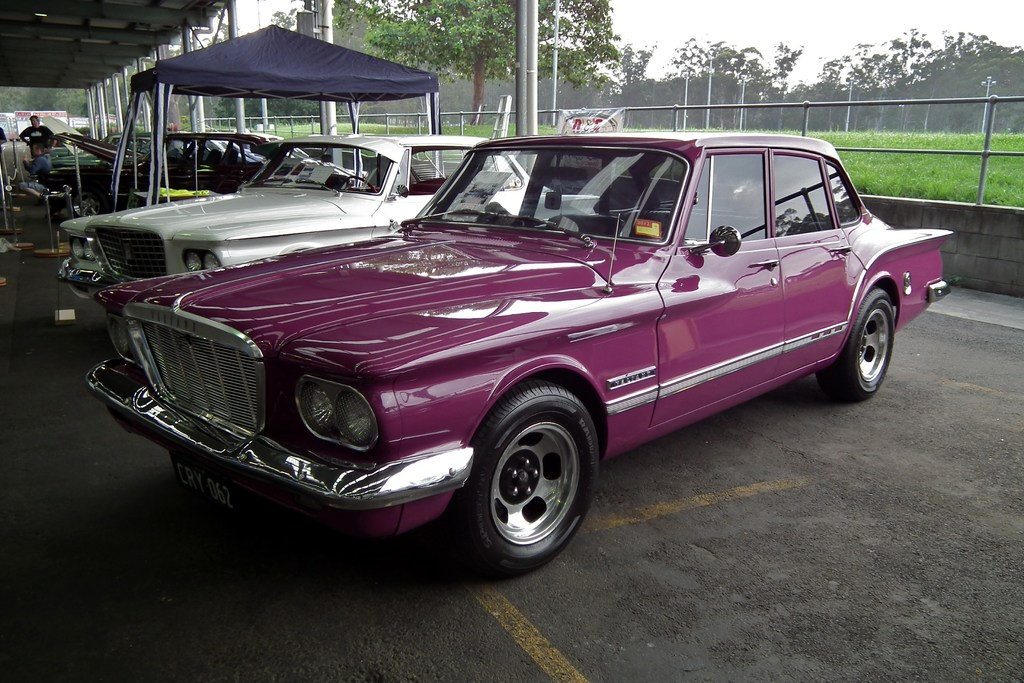Car: (85, 128, 952, 576), (63, 135, 602, 356)
